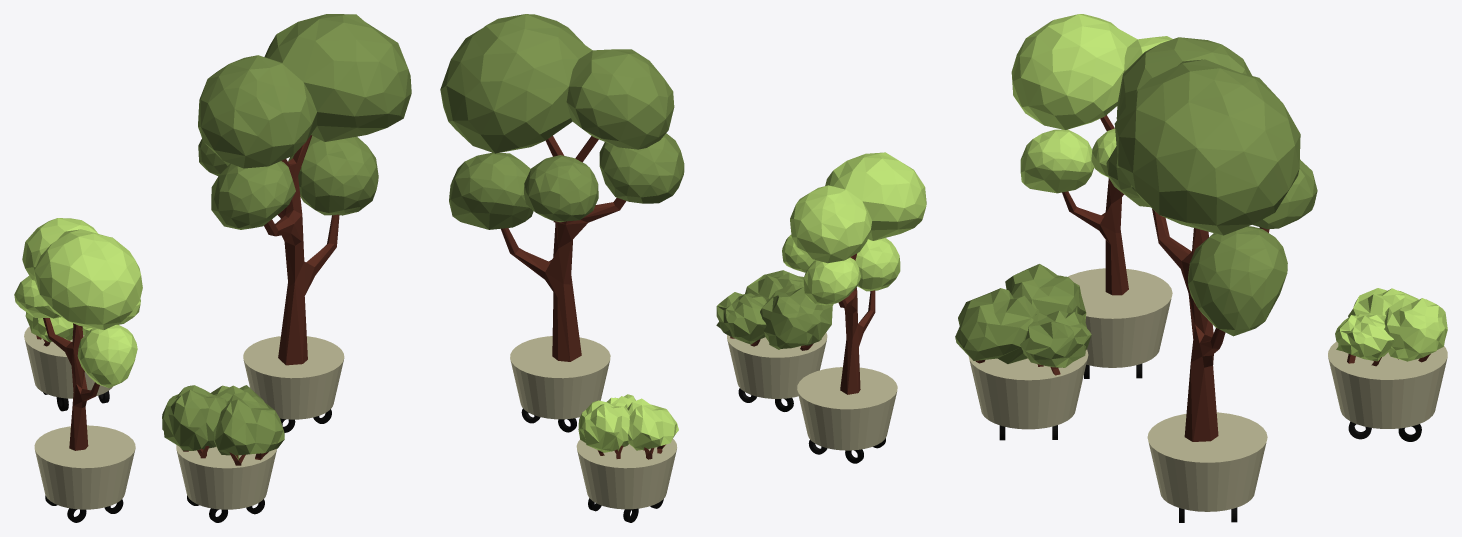
Rendered from TreeWheels.fbx.
The picture shows the model from 3 angles, left to right: view 1: azimuth 30°, elevation 25°; view 2: azimuth 150°, elevation 25°; view 3: azimuth 270°, elevation 25°; orthographic projection. The views are drawn at different scales.
Parts seen in each view (by area): view 1: TreeWheels; view 2: TreeWheels; view 3: TreeWheels.
Boxes of the visible parts, <box> form: TreeWheels: <box>14,14,411,522</box>; TreeWheels: <box>440,14,926,522</box>; TreeWheels: <box>955,14,1447,522</box>.
Bounding box in the file's own units: 285 × 256 × 246.
